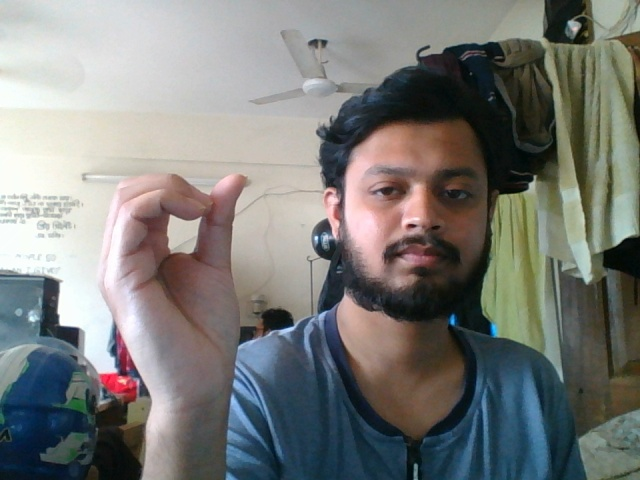ae: (97, 162, 271, 442)
